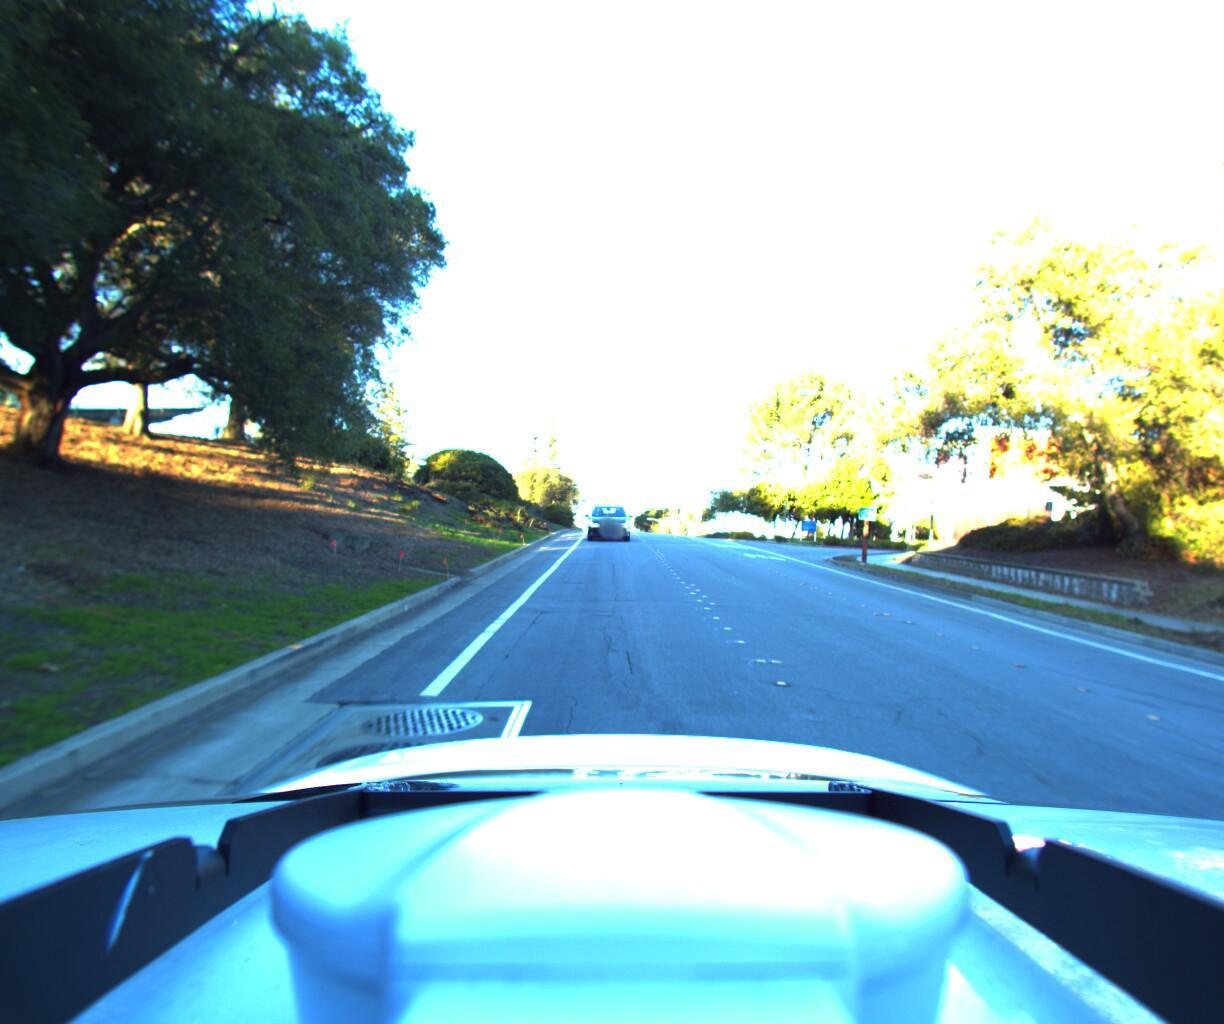car: (583, 498, 634, 546)
